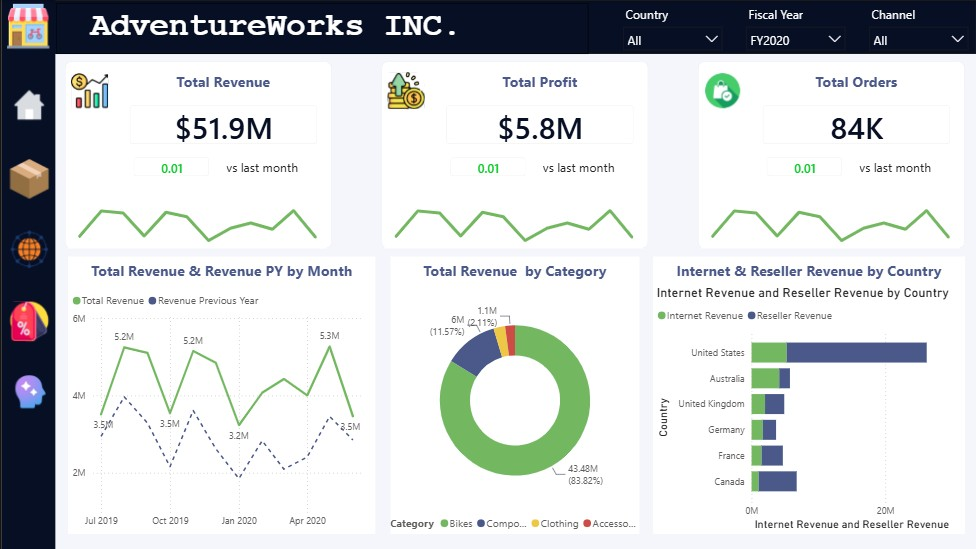

Layout of this report page (visuals, bound fields, positions):
{"tool":"powerbi","page":{"name":"Executive Summary","canvas":[1280,720],"ordinal":0},"visuals":[{"type":"shape","box":[65,0,1214.4,70.9],"z":0},{"type":"shape","box":[82.7,80.2,350,245],"z":0,"group":"g1"},{"type":"shape","box":[913.3,80.7,350,245],"z":0,"group":"g3"},{"type":"shape","box":[498,80.9,350,245],"z":0,"group":"g2"},{"type":"shape","box":[0,0,70,720.7],"z":1000},{"type":"textbox","box":[155.2,88,270.2,37.8],"z":1000,"group":"g1"},{"type":"textbox","box":[985.8,88.5,270.2,37.8],"z":1000,"group":"g3"},{"type":"textbox","box":[570.5,88.7,270.2,37.8],"z":1000,"group":"g2"},{"type":"textbox","box":[86.6,336.6,403.5,37.4],"z":1000},{"type":"textbox","box":[509.8,336.6,326.7,37.4],"z":1000},{"type":"textbox","box":[854.2,336.6,409.4,37.4],"z":1000},{"type":"slicer","fields":{"Values":["dim_Date.Fiscal Year"]},"box":[966.1,1.8,150,66.9],"z":2000},{"type":"cardVisual","fields":{"Data":["_Measures.Total Revenue"]},"box":[155.2,125.8,270.2,75.7],"z":2000,"group":"g1"},{"type":"cardVisual","fields":{"Data":["_Measures.Total Orders"]},"box":[985.8,126.3,270.2,75.7],"z":2000,"group":"g3"},{"type":"cardVisual","fields":{"Data":["_Measures.Total Profit"]},"box":[570.5,126.5,270.2,75.7],"z":2000,"group":"g2"},{"type":"slicer","fields":{"Values":["fact_Sales_Enriched.Channel"]},"box":[1127.1,2.6,150,66.9],"z":3000},{"type":"lineChart","fields":{"Y":["_Measures.Total Revenue"],"Category":["dim_Date.Month"]},"box":[86.3,247.4,339.2,77.7],"z":3000,"group":"g1"},{"type":"lineChart","fields":{"Y":["_Measures.Total Revenue"],"Category":["dim_Date.Month"]},"box":[916.9,247.9,339.2,77.7],"z":3000,"group":"g3"},{"type":"lineChart","fields":{"Y":["_Measures.Total Revenue"],"Category":["dim_Date.Month"]},"box":[501.6,248.1,339.2,77.7],"z":3000,"group":"g2"},{"type":"slicer","fields":{"Values":["dim_Territories.Country"]},"box":[805,2,150,66],"z":4000},{"type":"cardVisual","fields":{"Data":["_Measures.MoM Growth %"]},"box":[156.2,187.8,133.4,59.8],"z":4000,"group":"g1"},{"type":"cardVisual","fields":{"Data":["_Measures.MoM Growth %"]},"box":[986.8,188.3,133.4,59.8],"z":4000,"group":"g3"},{"type":"cardVisual","fields":{"Data":["_Measures.MoM Growth %"]},"box":[571.5,188.5,133.4,59.8],"z":4000,"group":"g2"},{"type":"actionButton","box":[86.3,88,56.8,60.7],"z":5000,"group":"g1"},{"type":"actionButton","box":[916.9,88.5,56.8,60.7],"z":5000,"group":"g3"},{"type":"actionButton","box":[501.6,88.7,56.8,60.7],"z":5000,"group":"g2"},{"type":"lineChart","fields":{"Category":["dim_Date.Month"],"Y":["_Measures.Total Revenue","_Measures.Revenue Previous Year"]},"box":[86.6,374,403.5,326.7],"z":5000},{"type":"textbox","box":[289.6,201.7,135.4,43.8],"z":6000,"group":"g1"},{"type":"textbox","box":[1120.2,202.2,135.4,43.8],"z":6000,"group":"g3"},{"type":"textbox","box":[704.9,202.4,135.4,43.8],"z":6000,"group":"g2"},{"type":"donutChart","fields":{"Category":["dim_Products.Category"],"Y":["_Measures.Total Revenue"]},"box":[509.8,374,326.7,326.7],"z":6000},{"type":"barChart","fields":{"Category":["dim_Territories.Country"],"Y":["_Measures.Internet Revenue","_Measures.Reseller Revenue"]},"box":[854.2,374,409.4,326.7],"z":7000},{"type":"actionButton","box":[5.4,109.1,60,60],"z":8000},{"type":"actionButton","box":[5.4,204.1,60,60],"z":9000},{"type":"actionButton","box":[5.4,297.2,60,60],"z":10000},{"type":"actionButton","box":[5.4,391.2,60,60],"z":11000},{"type":"actionButton","box":[6,484.1,59.6,59.6],"z":12000},{"type":"group","id":"g1","title":"Group 1","box":[82.7,80.2,350,245],"z":13000},{"type":"group","id":"g2","title":"Group 1","box":[498,80.9,350,245],"z":14000},{"type":"group","id":"g3","title":"Group 1","box":[913.3,80.7,350.3,246],"z":15000},{"type":"actionButton","box":[0,0,70.9,68.9],"z":16000},{"type":"textbox","box":[70.9,3.9,698.7,66.9],"z":17000}]}

Visuals, with their boxes on the page's 1280x720 design canvas (x1, y1, x2, y2). These are canvas units, not pixel positions in the 976x549 screenshot, which may show the page scaled, cropped or inside an application window:
shape: bbox=[65, 0, 1279, 71]
shape: bbox=[83, 80, 433, 325]
shape: bbox=[913, 81, 1263, 326]
shape: bbox=[498, 81, 848, 326]
shape: bbox=[0, 0, 70, 721]
textbox: bbox=[155, 88, 425, 126]
textbox: bbox=[986, 88, 1256, 126]
textbox: bbox=[570, 89, 841, 126]
textbox: bbox=[87, 337, 490, 374]
textbox: bbox=[510, 337, 836, 374]
textbox: bbox=[854, 337, 1264, 374]
slicer - dim_Date.Fiscal Year: bbox=[966, 2, 1116, 69]
cardVisual - _Measures.Total Revenue: bbox=[155, 126, 425, 202]
cardVisual - _Measures.Total Orders: bbox=[986, 126, 1256, 202]
cardVisual - _Measures.Total Profit: bbox=[570, 126, 841, 202]
slicer - fact_Sales_Enriched.Channel: bbox=[1127, 3, 1277, 70]
lineChart - _Measures.Total Revenue x dim_Date.Month: bbox=[86, 247, 426, 325]
lineChart - _Measures.Total Revenue x dim_Date.Month: bbox=[917, 248, 1256, 326]
lineChart - _Measures.Total Revenue x dim_Date.Month: bbox=[502, 248, 841, 326]
slicer - dim_Territories.Country: bbox=[805, 2, 955, 68]
cardVisual - _Measures.MoM Growth %: bbox=[156, 188, 290, 248]
cardVisual - _Measures.MoM Growth %: bbox=[987, 188, 1120, 248]
cardVisual - _Measures.MoM Growth %: bbox=[572, 188, 705, 248]
actionButton: bbox=[86, 88, 143, 149]
actionButton: bbox=[917, 88, 974, 149]
actionButton: bbox=[502, 89, 558, 149]
lineChart - dim_Date.Month x _Measures.Total Revenue: bbox=[87, 374, 490, 701]
textbox: bbox=[290, 202, 425, 246]
textbox: bbox=[1120, 202, 1256, 246]
textbox: bbox=[705, 202, 840, 246]
donutChart - dim_Products.Category x _Measures.Total Revenue: bbox=[510, 374, 836, 701]
barChart - dim_Territories.Country x _Measures.Internet Revenue: bbox=[854, 374, 1264, 701]
actionButton: bbox=[5, 109, 65, 169]
actionButton: bbox=[5, 204, 65, 264]
actionButton: bbox=[5, 297, 65, 357]
actionButton: bbox=[5, 391, 65, 451]
actionButton: bbox=[6, 484, 66, 544]
"Group 1" group: bbox=[83, 80, 433, 325]
"Group 1" group: bbox=[498, 81, 848, 326]
"Group 1" group: bbox=[913, 81, 1264, 327]
actionButton: bbox=[0, 0, 71, 69]
textbox: bbox=[71, 4, 770, 71]
